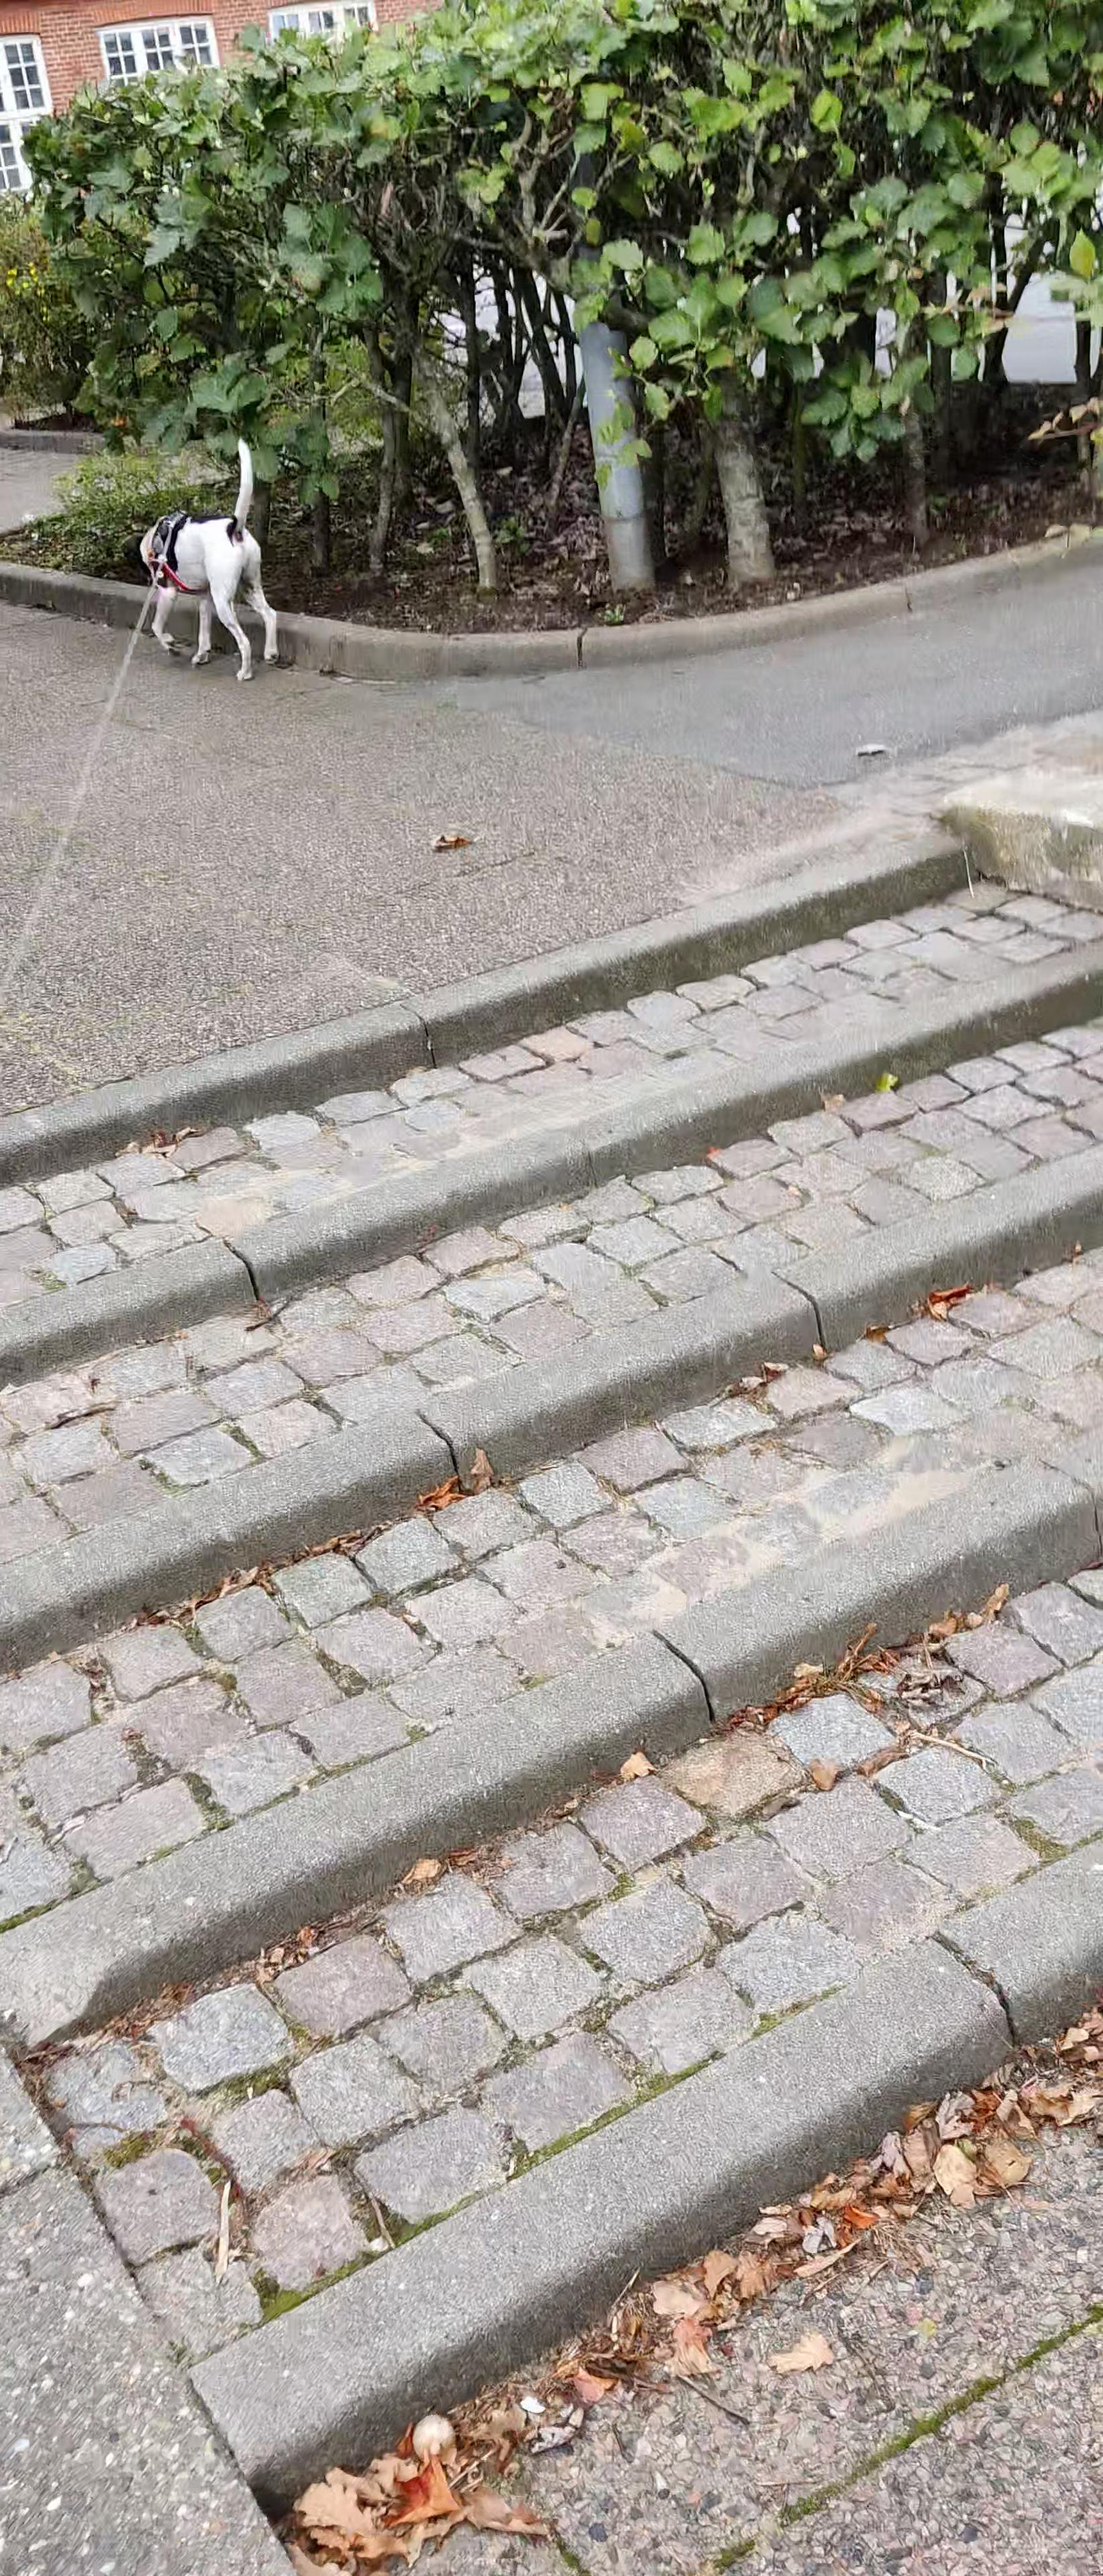Dog: (118, 435, 289, 682)
